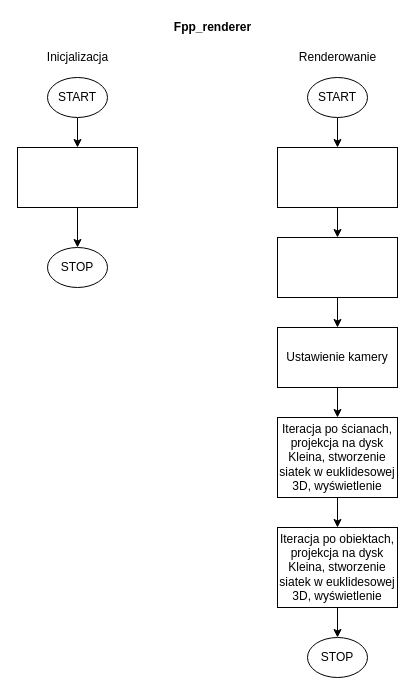
Some shapes in this 415 by 695 pixel diagram are drawn without their labels. The centre of each missing label's shape, as x and y in pixels:
"Wczytanie tekstur" goes at pixel 77 177.
"Wyczyszczenie ekranu" goes at pixel 337 177.
"Wyświetlenie podłogi" goes at pixel 337 267.
